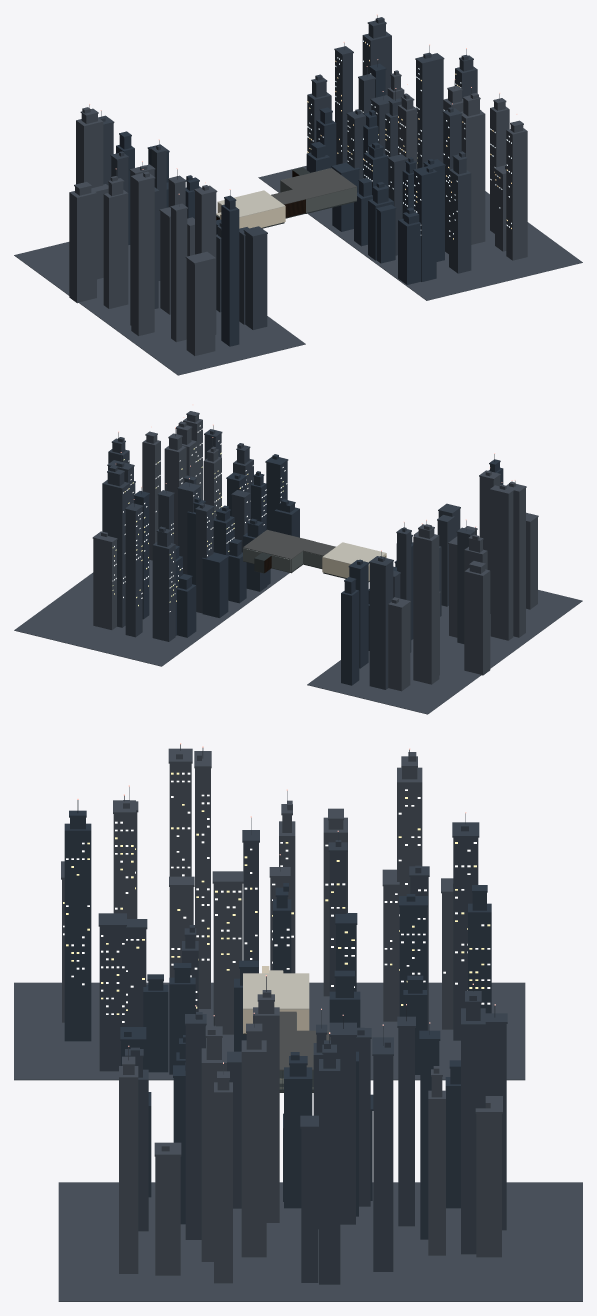
The model's file is office.glb.
The picture shows the model from 3 angles, top to bottom: view 1: azimuth 30°, elevation 25°; view 2: azimuth 150°, elevation 25°; view 3: azimuth 270°, elevation 25°; orthographic projection. The views are drawn at different scales.
Visible parts, largest first — view 1: City west / City tower, far, City east / City tower, far, City east / City tower, mid, City east / City tower, near, City west / City tower, mid, City west / City tower, near, Ceiling, Commons ceiling, South wall, Commons south plaster, City east / City windows; view 2: City west / City tower, far, City east / City tower, far, City east / City tower, mid, City east / City tower, near, City west / City tower, mid, City west / City tower, near, Ceiling, Commons ceiling, City east / City windows, Commons north plaster; view 3: City east / City tower, far, City west / City tower, far, City east / City tower, mid, City west / City tower, near, City west / City tower, mid, City east / City tower, near, Commons ceiling, City west / City windows, Ceiling, City west / City windows, warm.
Boxes of the visible parts, x1=… form: City west / City tower, far: x1=14, y1=105, x2=305, y2=375; City east / City tower, far: x1=258, y1=70, x2=582, y2=300; City east / City tower, mid: x1=307, y1=15, x2=481, y2=273; City east / City tower, near: x1=306, y1=60, x2=445, y2=284; City west / City tower, mid: x1=98, y1=111, x2=267, y2=329; City west / City tower, near: x1=116, y1=131, x2=239, y2=346; Ceiling: x1=280, y1=168, x2=356, y2=199; Commons ceiling: x1=218, y1=190, x2=285, y2=217; South wall: x1=306, y1=187, x2=356, y2=212; Commons south plaster: x1=239, y1=206, x2=285, y2=228; City east / City windows: x1=307, y1=40, x2=511, y2=236; City west / City tower, far: x1=307, y1=470, x2=582, y2=714; City east / City tower, far: x1=14, y1=411, x2=289, y2=666; City east / City tower, mid: x1=102, y1=425, x2=253, y2=641; City east / City tower, near: x1=133, y1=454, x2=299, y2=637; City west / City tower, mid: x1=369, y1=503, x2=475, y2=689; City west / City tower, near: x1=341, y1=454, x2=503, y2=685; Ceiling: x1=243, y1=529, x2=314, y2=559; Commons ceiling: x1=322, y1=542, x2=386, y2=565; City east / City windows: x1=112, y1=425, x2=287, y2=611; Commons north plaster: x1=322, y1=557, x2=350, y2=577; City east / City tower, far: x1=58, y1=976, x2=582, y2=1301; City west / City tower, far: x1=14, y1=744, x2=525, y2=1080; City east / City tower, mid: x1=125, y1=985, x2=507, y2=1284; City west / City tower, near: x1=64, y1=800, x2=491, y2=1074; City west / City tower, mid: x1=98, y1=813, x2=479, y2=1071; City east / City tower, near: x1=120, y1=1024, x2=460, y2=1239; Commons ceiling: x1=243, y1=973, x2=309, y2=1009; City west / City windows: x1=63, y1=772, x2=490, y2=1022; Ceiling: x1=279, y1=1030, x2=330, y2=1070; City west / City windows, warm: x1=63, y1=772, x2=490, y2=1014.
Size of the model in its own units: 118 by 45.55 by 89.
Materials: 35 (8 with a texture image).
